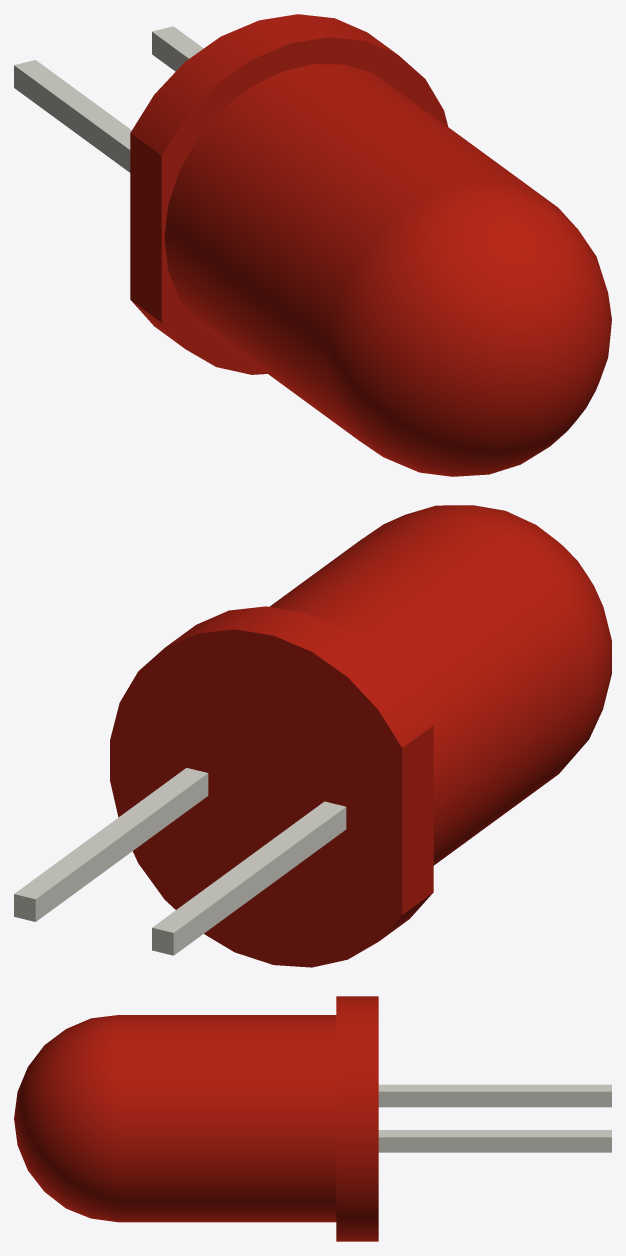
Rendered from LED_D5.0mm.glb.
3 views of the same model, one above another, from view 1: azimuth 30°, elevation 25°; view 2: azimuth 150°, elevation 25°; view 3: azimuth 270°, elevation 25° (orthographic). The views are drawn at different scales.
Parts seen in each view (by area): view 1: LED_D5.0mm_94c238, LED_D5.0mm_11b01b; view 2: LED_D5.0mm_94c238, LED_D5.0mm_11b01b; view 3: LED_D5.0mm_94c238, LED_D5.0mm_11b01b.
Part boxes in pixels (x1=…): LED_D5.0mm_94c238: x1=130, y1=14, x2=611, y2=476; LED_D5.0mm_11b01b: x1=14, y1=26, x2=203, y2=172; LED_D5.0mm_94c238: x1=110, y1=505, x2=611, y2=967; LED_D5.0mm_11b01b: x1=14, y1=767, x2=346, y2=955; LED_D5.0mm_94c238: x1=14, y1=996, x2=378, y2=1241; LED_D5.0mm_11b01b: x1=378, y1=1084, x2=611, y2=1152.
Bounding box in the file's own units: 0.00538 × 0.00579 × 0.0141.
